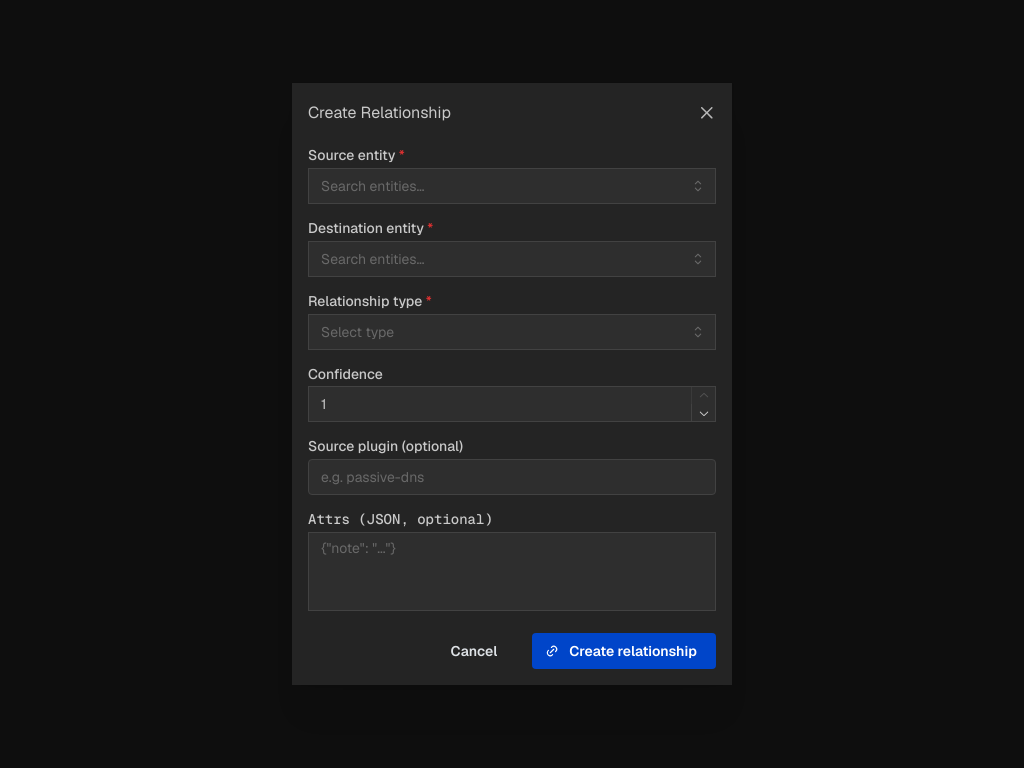
it: RelationshipCreateModal › src select is searchable and shows entity options when clicked
Click the field with placeholder "Search entities…" at [512, 186], box [308,168,716,204]
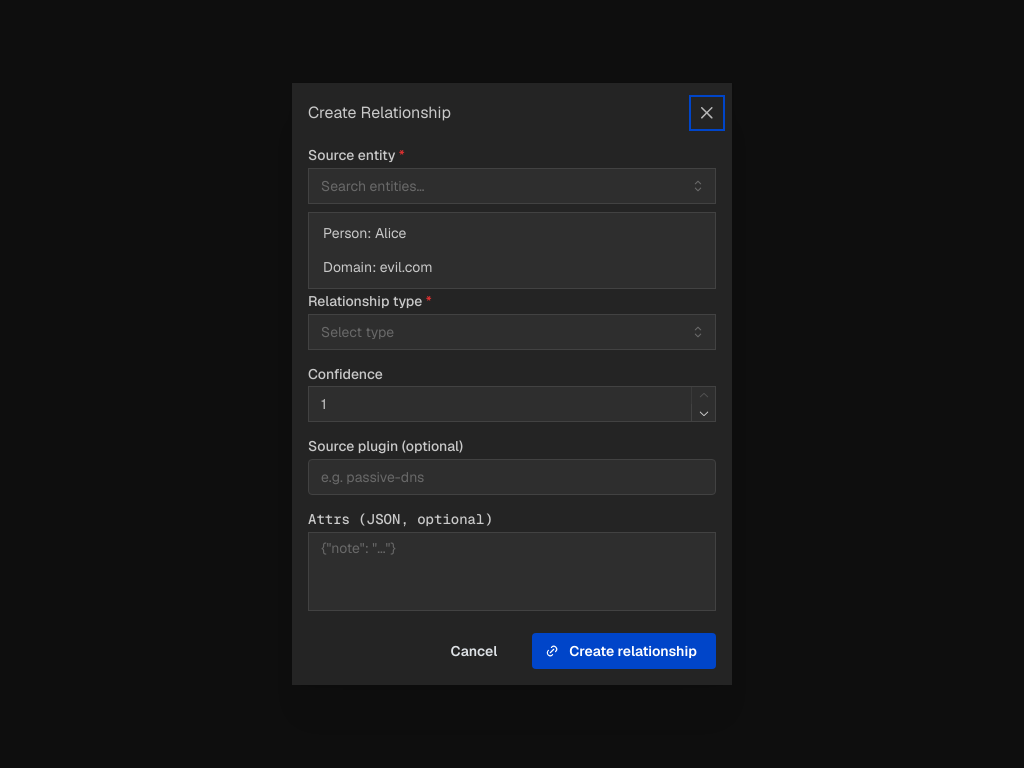
expect the text "Person: Alice" is shown: met, box [323,223,406,245]
expect the text "Domain: evil.com" is shown: met, box [323,257,432,278]
